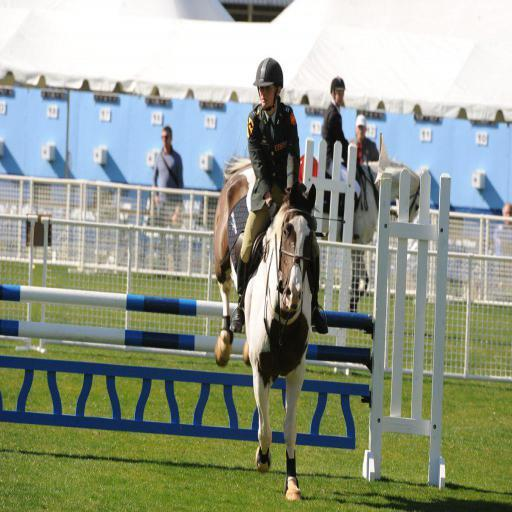horse: (213, 144, 322, 506), (313, 156, 421, 316)
